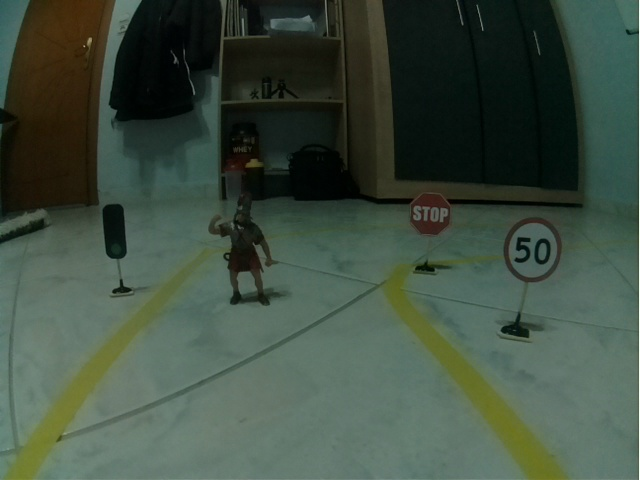Green Traffic Light: (102, 203, 127, 260)
Person: (208, 192, 278, 307)
Speed Limit 50: (503, 217, 562, 284)
Stop: (409, 193, 453, 237)
